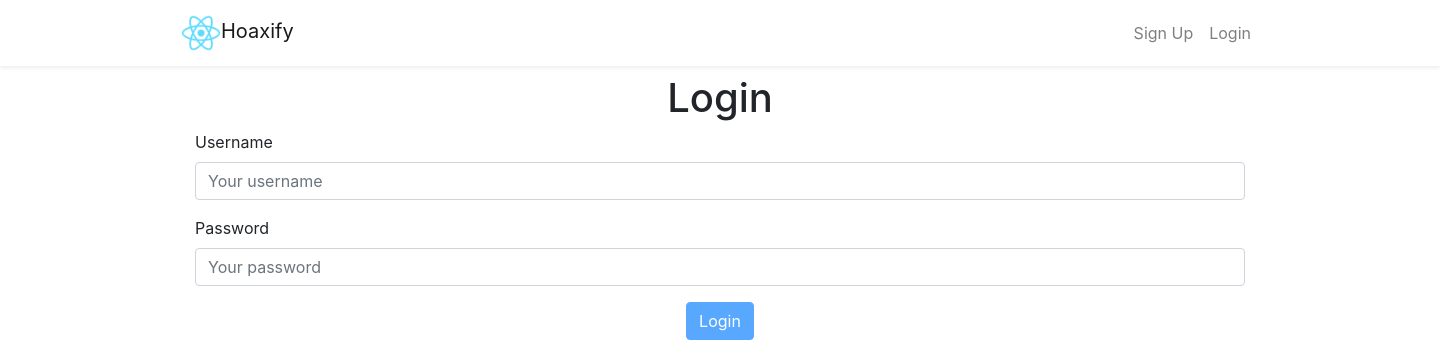
Test: App › 로고 클릭시 홈페이지로 이동
Click the picture named "logo" at {"x": 201, "y": 33}, box left=181, top=13, right=221, bottom=53
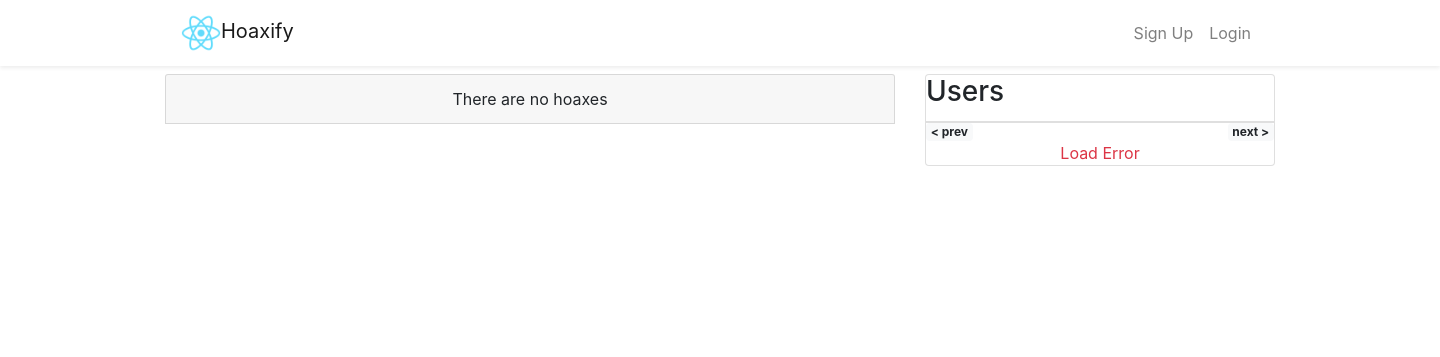
Check: the element with test id "homepage" is shown, box left=165, top=74, right=1275, bottom=166
